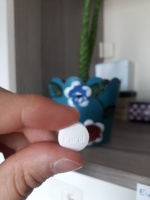Parol: (58, 121, 90, 153)
